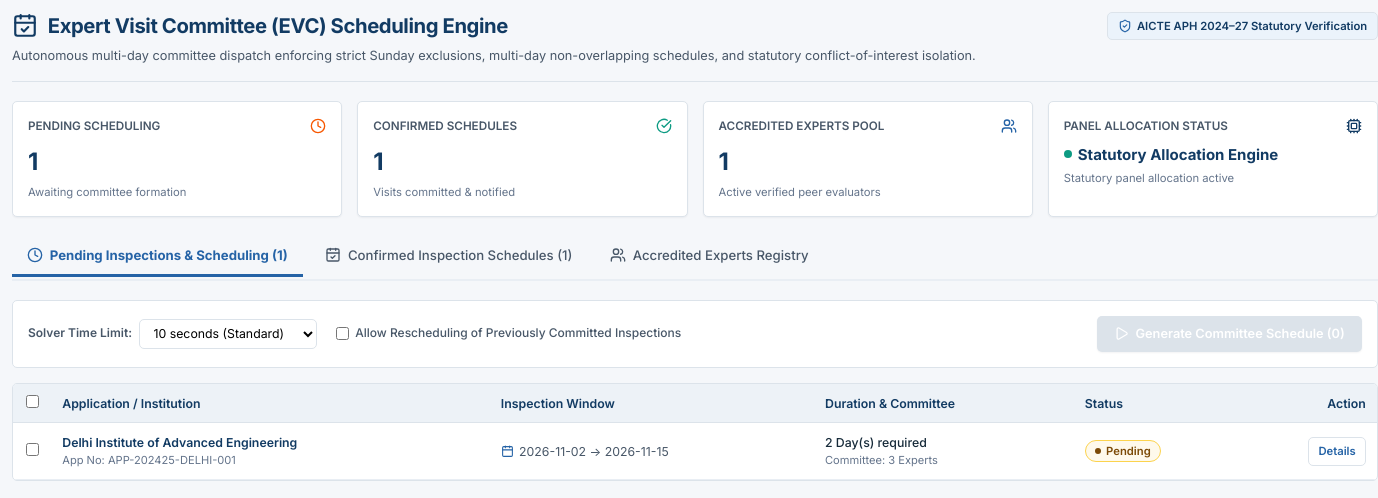
Test case: EVC Scheduling Engine Frontend Workflow › allows selection of pending inspections and displays count on action button
expect the text "Delhi Institute of Advanced Engineering" is shown: met, box [62,435,297,450]
Click the checkbox named "Select all pending inspections".
click(32, 401)  # box [26,395,38,408]
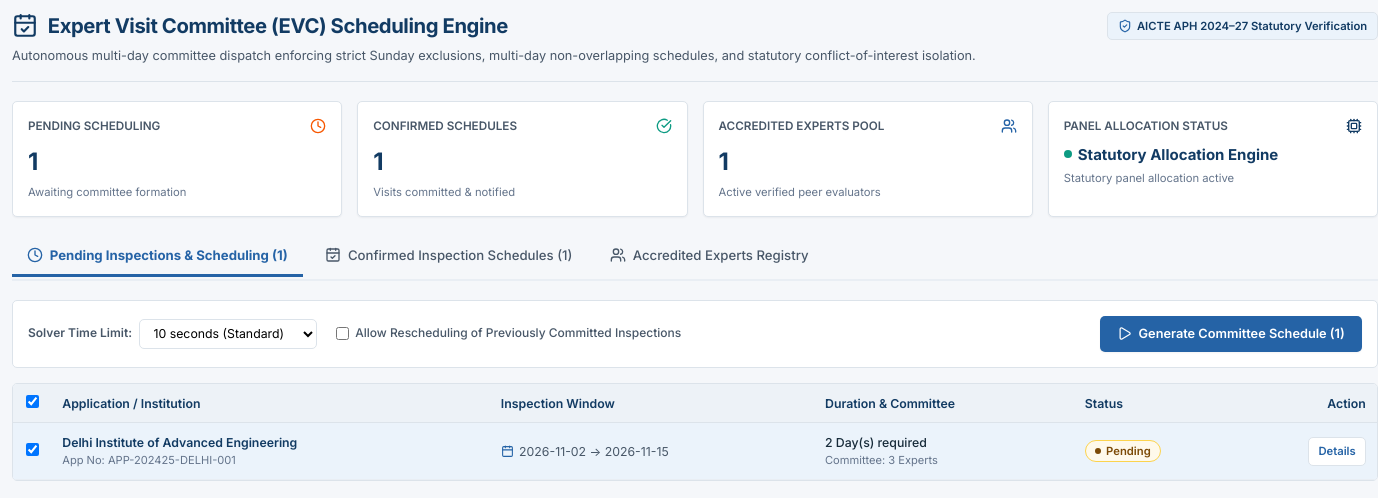
expect the button "Generate Committee Schedule (1)" is enabled: met, box [1100,316,1362,352]
